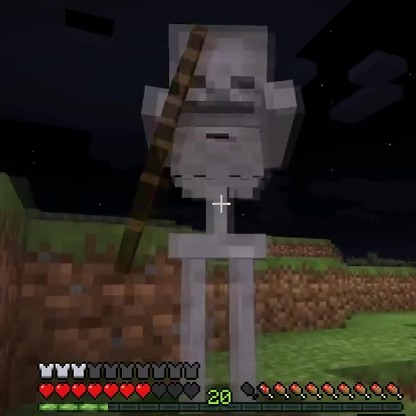skeleton: (137, 19, 293, 358)
